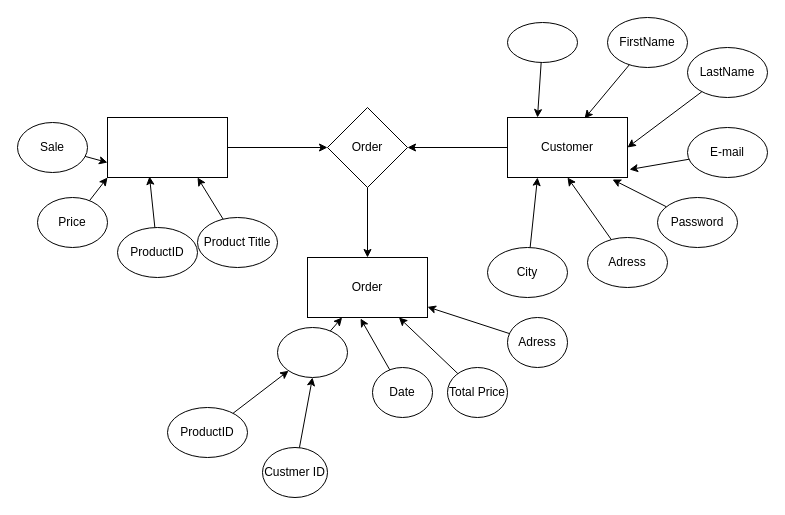
This 785x515 diagram has some shape labels left out. Each missing label, with the centre of its shape:
"Card" goes at point 542,42.
"Order ID" goes at point 312,352.
"Site" goes at point 167,147.
